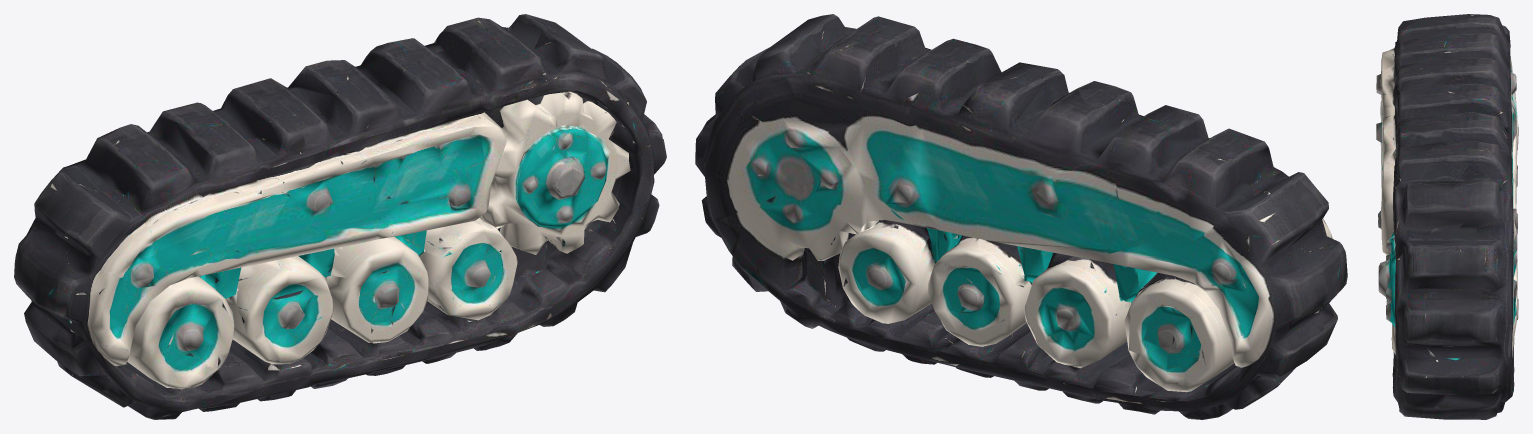
File: rover_track.glb
3 views of the same model, side by side, from view 1: azimuth 30°, elevation 25°; view 2: azimuth 150°, elevation 25°; view 3: azimuth 270°, elevation 25° (orthographic). The views are drawn at different scales.
Bounding box in the file's own units: 1.9 × 0.8645 × 0.4318.
Materials: 1 (1 with a texture image).
